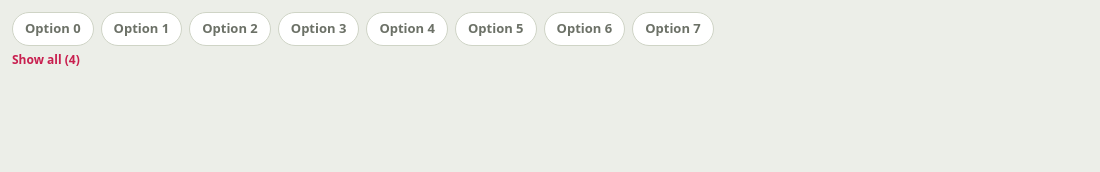
TagPicker › still collapses/expands overflow when searchable is false
The width and height of the screenshot is (1100, 172).
Check: the button "Option 8" is not shown
Click the button "Show all (4)" at {"x": 46, "y": 60}, box 12,52 -> 80,68
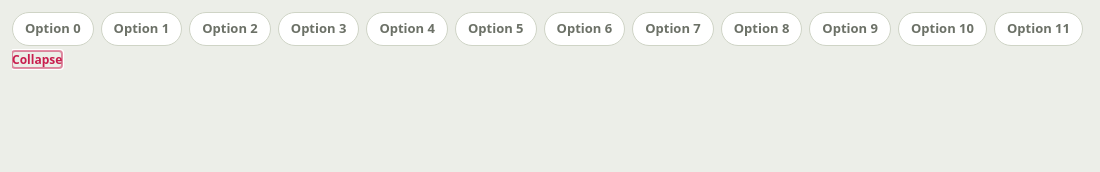
Check: the button "Option 8" is shown, box 721,12 -> 802,46
